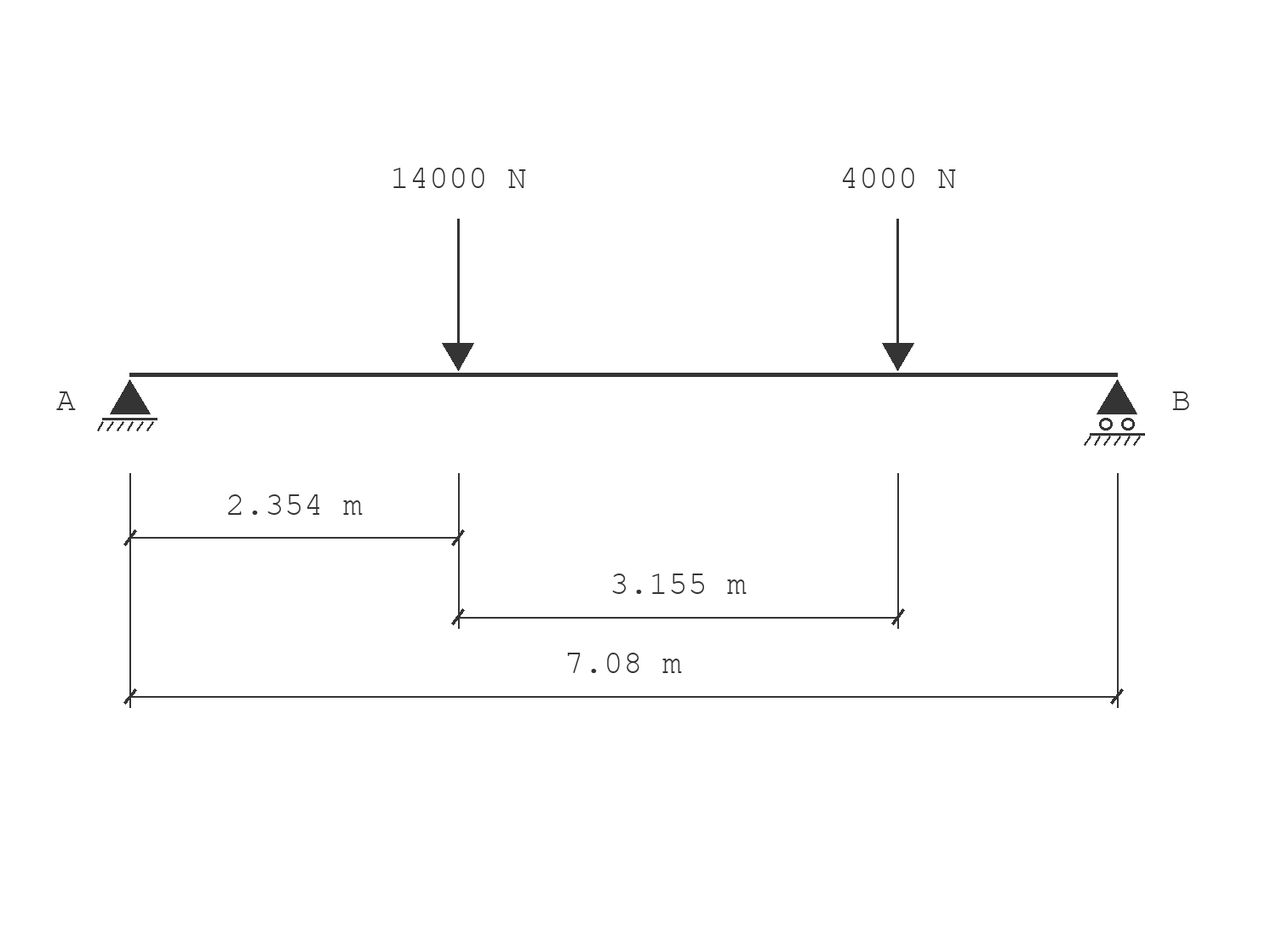pin_support: (97, 380, 157, 431)
point_load: (442, 219, 474, 371), (882, 219, 914, 371)
roller_support: (1084, 380, 1145, 446)
